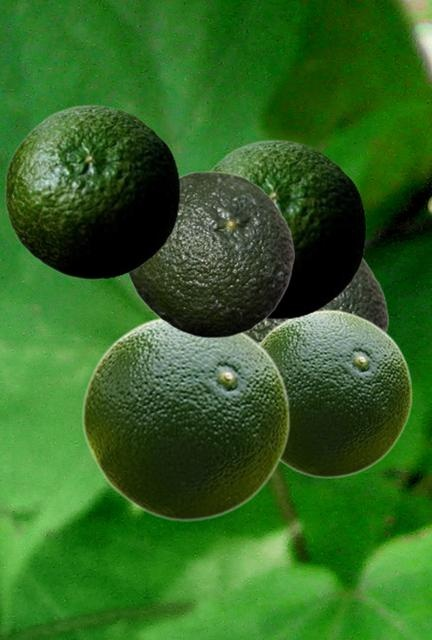calamansi: (81, 316, 290, 520), (4, 104, 179, 279), (207, 139, 365, 319), (126, 171, 294, 337), (258, 309, 412, 477), (247, 256, 388, 341)
